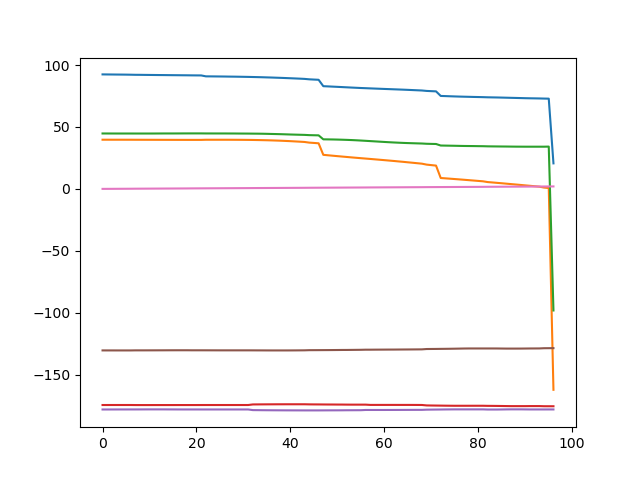Too_Slow: (2, 2, 640, 480)
